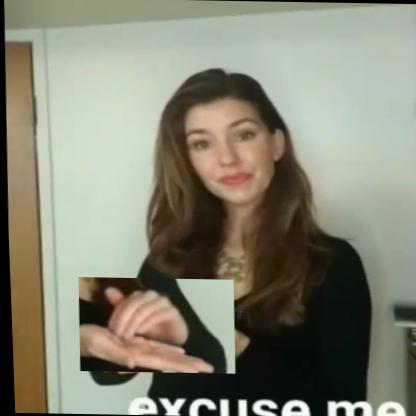ExcuseMe: (75, 277, 233, 373)
